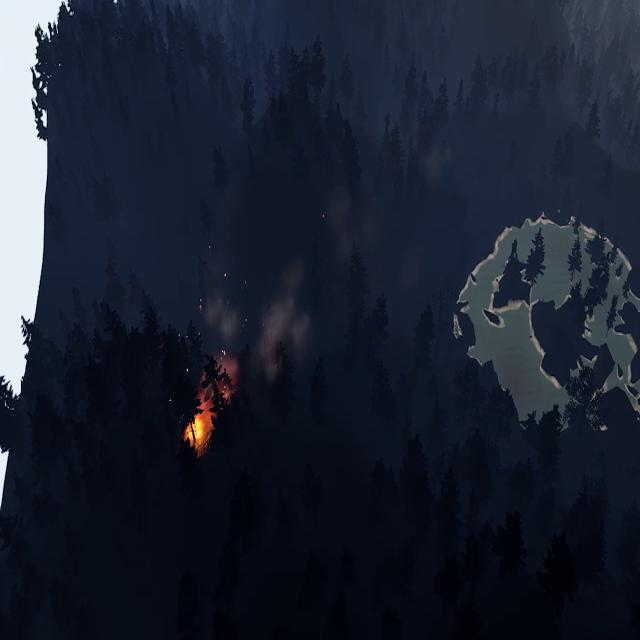fire: (183, 364, 236, 446)
smoke: (256, 270, 311, 386), (195, 290, 240, 360)
